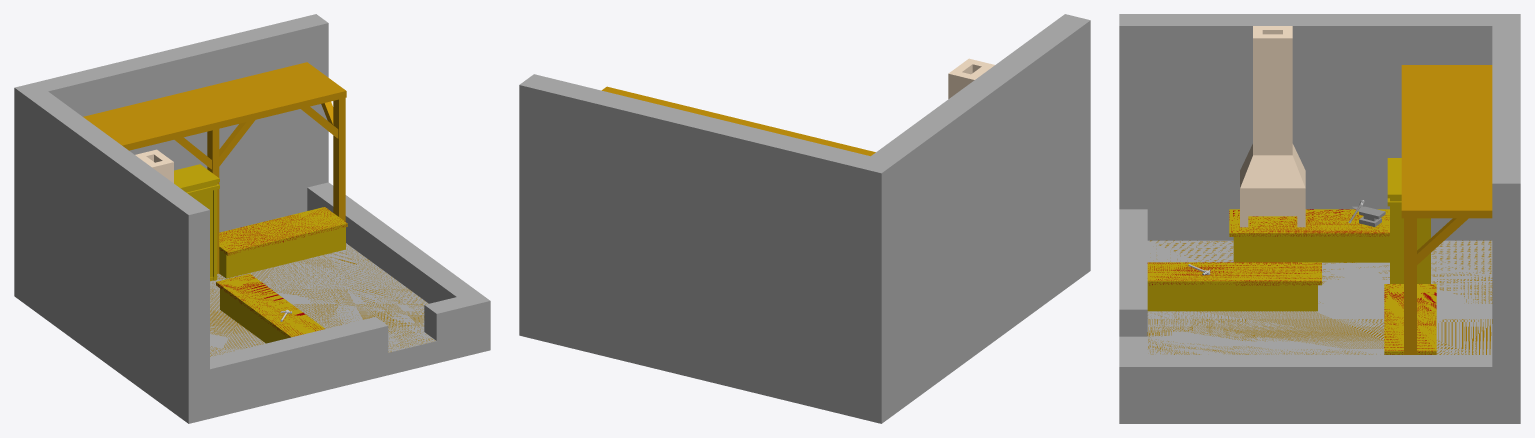
The model's file is Tienda.fbx.
3 views of the same model, side by side, from view 1: azimuth 30°, elevation 25°; view 2: azimuth 150°, elevation 25°; view 3: azimuth 270°, elevation 25° (orthographic). The views are drawn at different scales.
Parts seen in each view (by area): view 1: paredes, pilares, suelo, mostrador4, mostrador3, mostrador6, mostrador5, armario3, armario, pilares4, chimenea, pilares 6; view 2: paredes, pilares, chimenea; view 3: paredes, suelo, pilares, chimenea, mostrador5, mostrador6, mostrador1, mostrador 2, mostrador4, armario3, armario.
Boxes of the visible parts, box(x1,y1,x2,y2) form: paredes: box(14, 14, 490, 423); pilares: box(83, 62, 346, 221); suelo: box(210, 243, 436, 356); mostrador4: box(219, 207, 347, 255); mostrador3: box(219, 227, 345, 278); mostrador6: box(216, 273, 324, 337); mostrador5: box(220, 288, 287, 343); armario3: box(191, 189, 217, 281); armario: box(174, 164, 219, 190); pilares4: box(207, 129, 219, 273); chimenea: box(135, 149, 173, 183); pilares 6: box(219, 120, 255, 166); paredes: box(519, 14, 1090, 423); pilares: box(601, 86, 875, 156); chimenea: box(948, 58, 994, 98); paredes: box(1119, 14, 1520, 423); suelo: box(1147, 240, 1492, 354); pilares: box(1401, 65, 1492, 354); chimenea: box(1240, 26, 1305, 227); mostrador5: box(1147, 285, 1317, 311); mostrador6: box(1147, 262, 1321, 285); mostrador1: box(1233, 237, 1389, 262); mostrador 2: box(1229, 209, 1389, 236); mostrador4: box(1384, 284, 1436, 354); armario3: box(1390, 206, 1430, 283); armario: box(1387, 158, 1401, 198).
Size of the model in its own units: 932 by 616 by 932.
